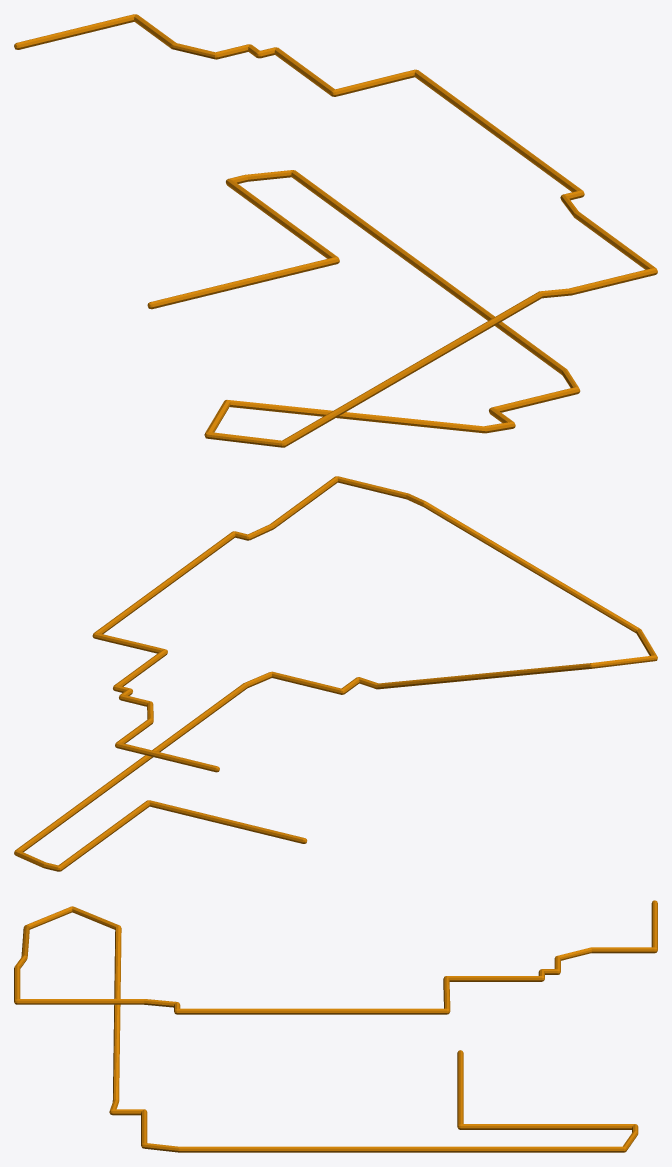
3 renders of one model, top to bottom at view 1: azimuth 30°, elevation 25°; view 2: azimuth 150°, elevation 25°; view 3: azimuth 270°, elevation 25°, orthographic. The views are drawn at different scales.
Bounding box in the file's own units: 1319 × 520 × 2028.
